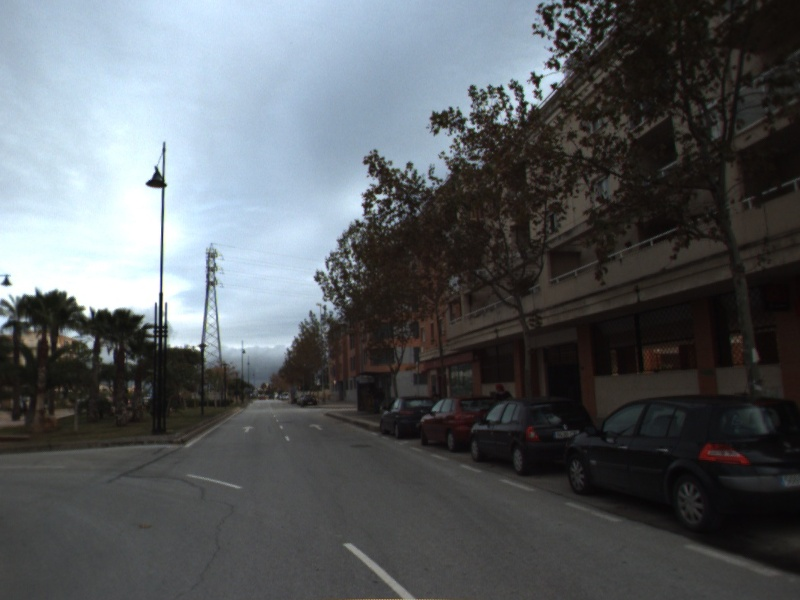STRAIGHT: (307, 421, 325, 432), (241, 423, 256, 434)
